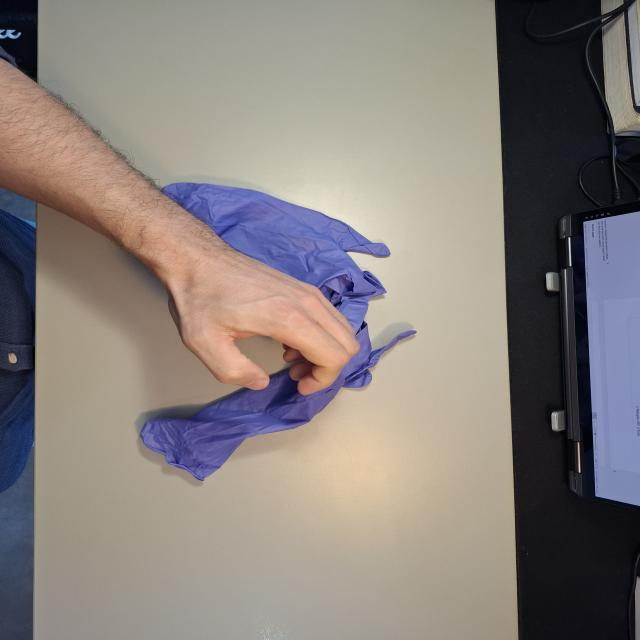glove_off: (162, 242, 365, 398)
